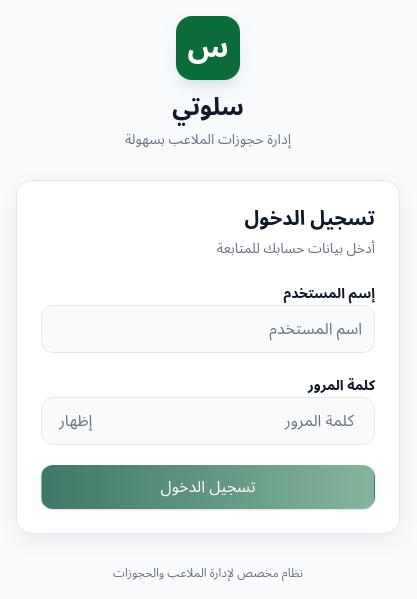
LoginPage › toggles password visibility locally
Step 1. Click the button with aria-label "إظهار كلمة المرور" → (76, 421), box 53,405 -> 98,437
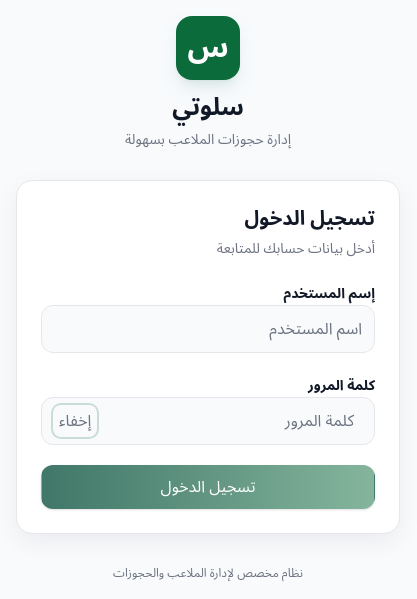
Check: the button with aria-label "إخفاء كلمة المرور" is shown, box 53,405 -> 97,437
